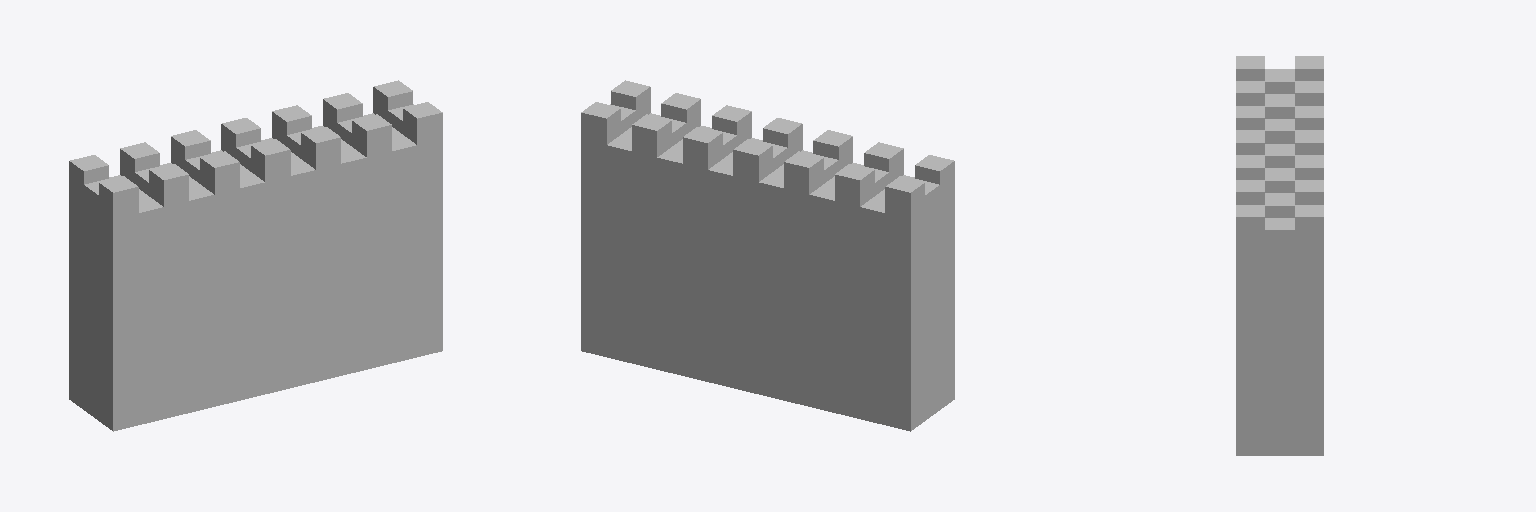
File: Wall.obj
3 renders of one model, left to right at view 1: azimuth 30°, elevation 25°; view 2: azimuth 150°, elevation 25°; view 3: azimuth 270°, elevation 25°, orthographic.
Visible parts, largest first — view 1: object 1; view 2: object 1; view 3: object 1.
Boxes of the visible parts, x1=… form: object 1: x1=69, y1=80, x2=442, y2=431; object 1: x1=581, y1=80, x2=954, y2=431; object 1: x1=1236, y1=56, x2=1323, y2=455.
Size of the model in its own units: 2.6 by 1.8 by 0.6.